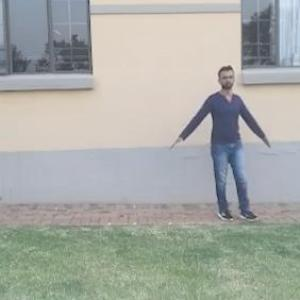land: (168, 71, 269, 226)
